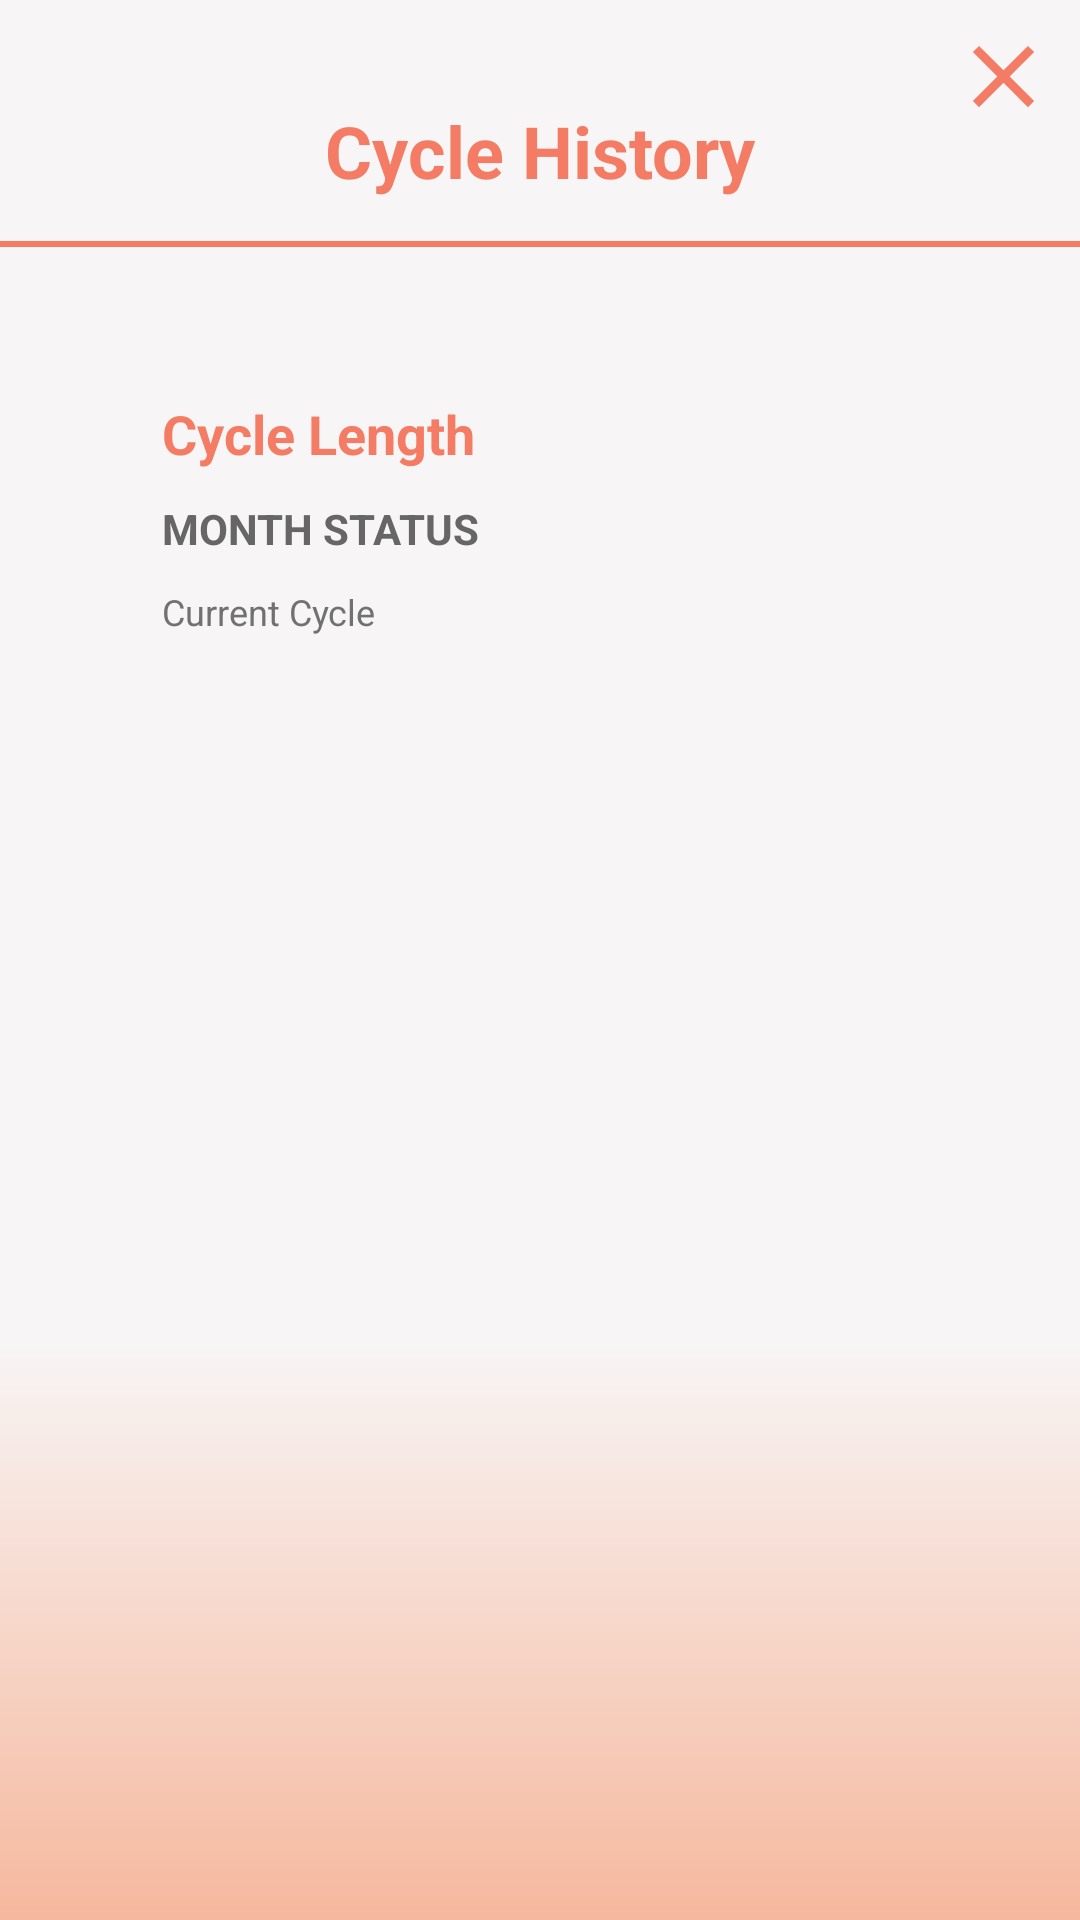

Icons on this 1080px×1920px Android screen, each with the point to tap as (x,y):
Close: (1003,76)
